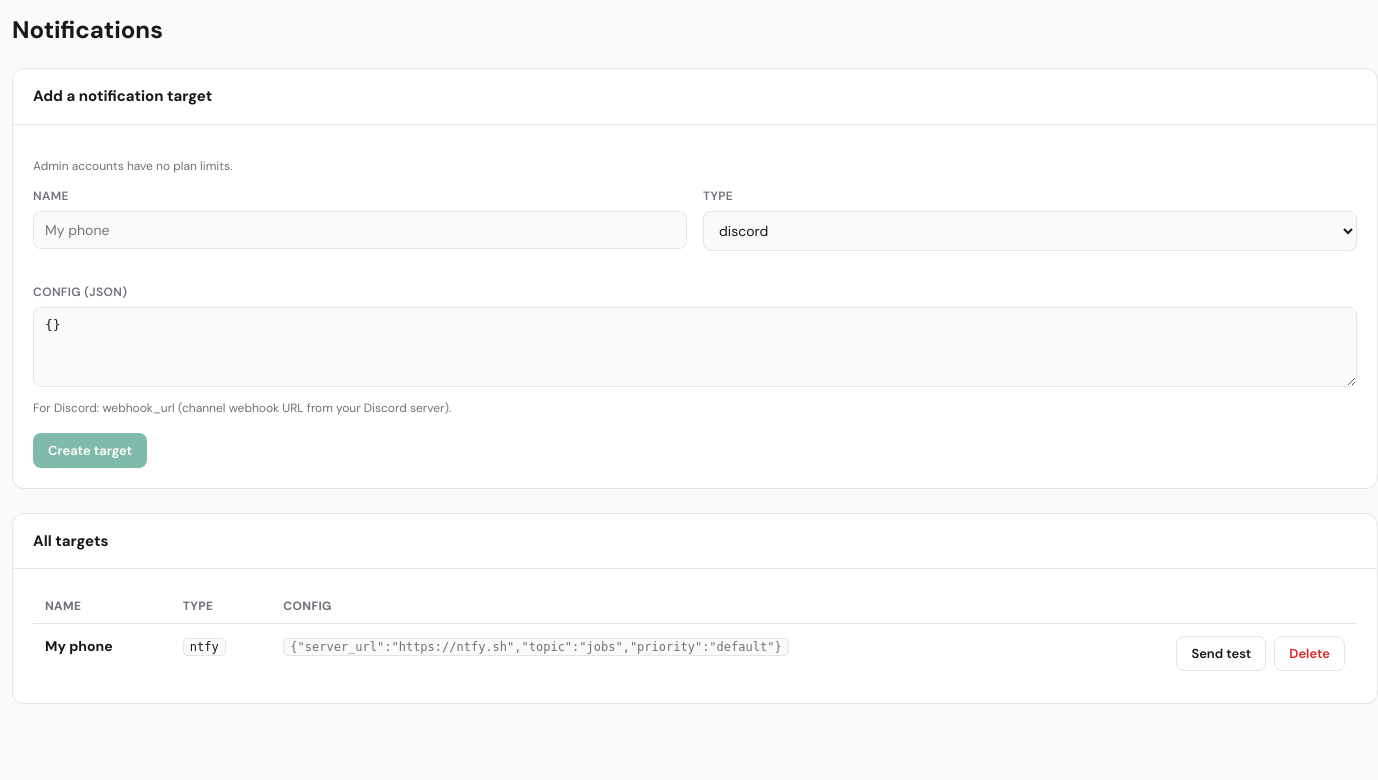
Test: TargetsPage branch coverage › falls back to 'unknown error' when a failed test omits an error
This screenshot has width=1378, height=780.
Expected: the text "My phone" is shown, x1=45 y1=637 x2=113 y2=655
What coordinates should you click on to do the following:
click the button "Send test"
I would click on:
 (1221, 654)
Its box is x1=1176 y1=636 x2=1266 y2=671.
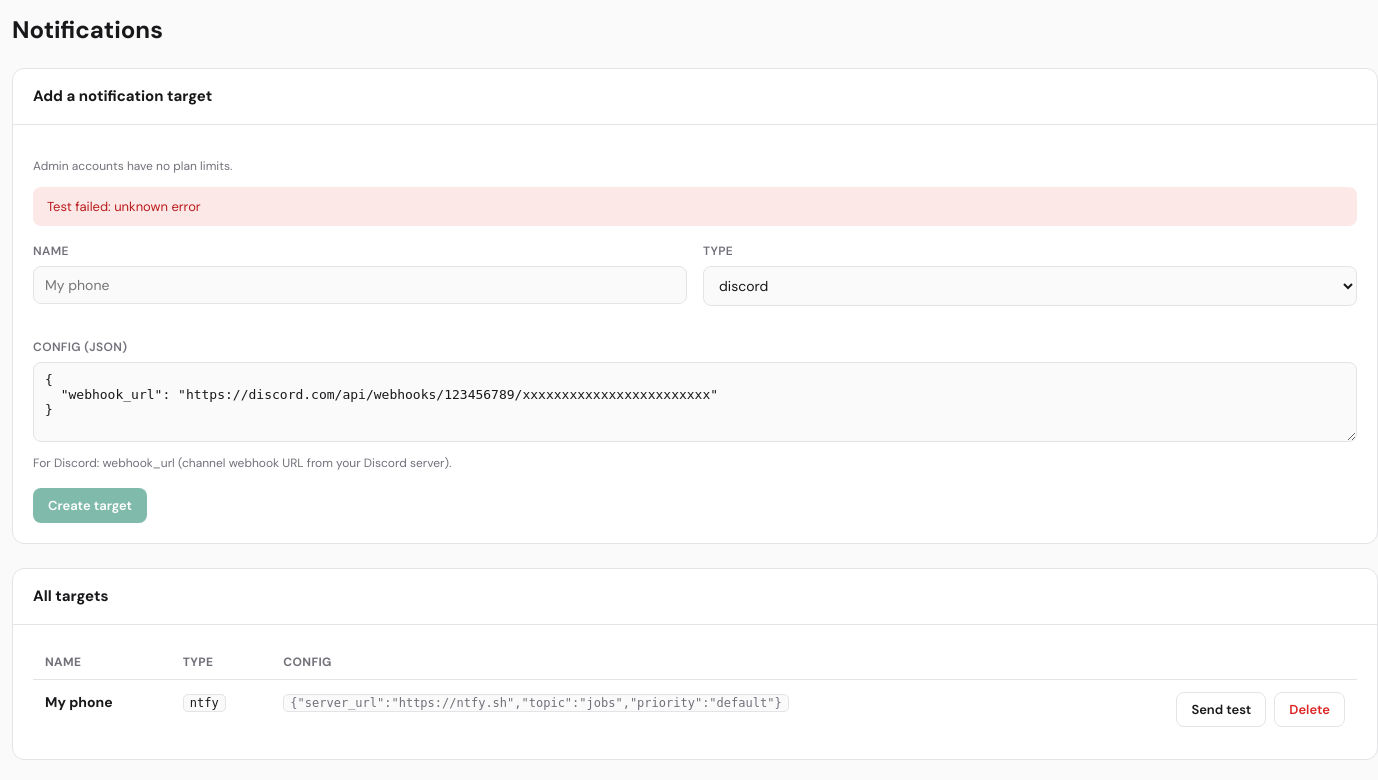
Now the text "Test failed: unknown error" is shown, box x1=33 y1=186 x2=1357 y2=226
